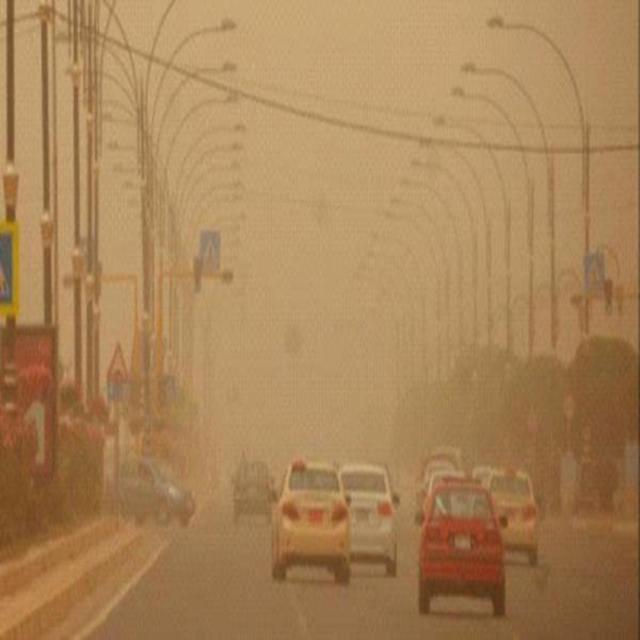car: (412, 480, 506, 614), (272, 457, 354, 583), (339, 462, 399, 574), (479, 467, 541, 564), (112, 455, 196, 525), (231, 456, 274, 525), (421, 469, 461, 517)
